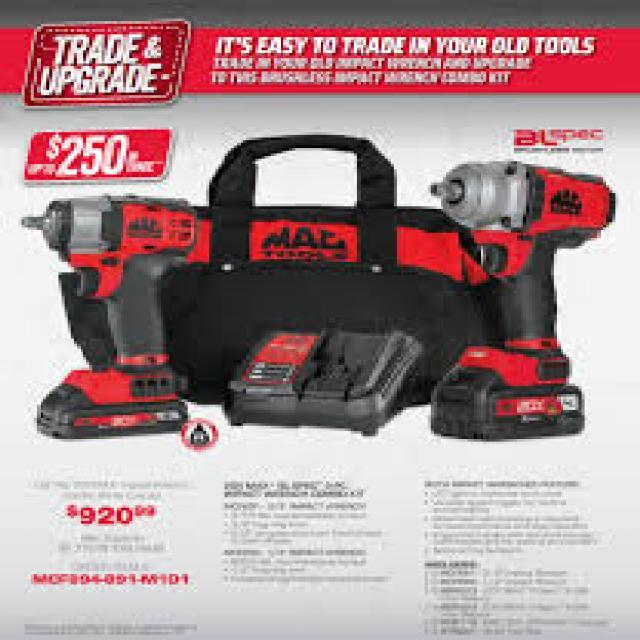drill: (423, 159, 631, 446), (18, 190, 202, 448)
